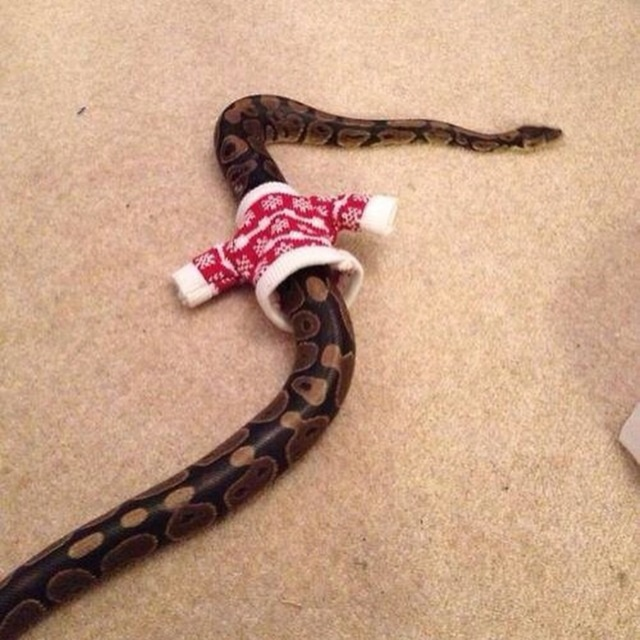Snake: (0, 96, 563, 633)
